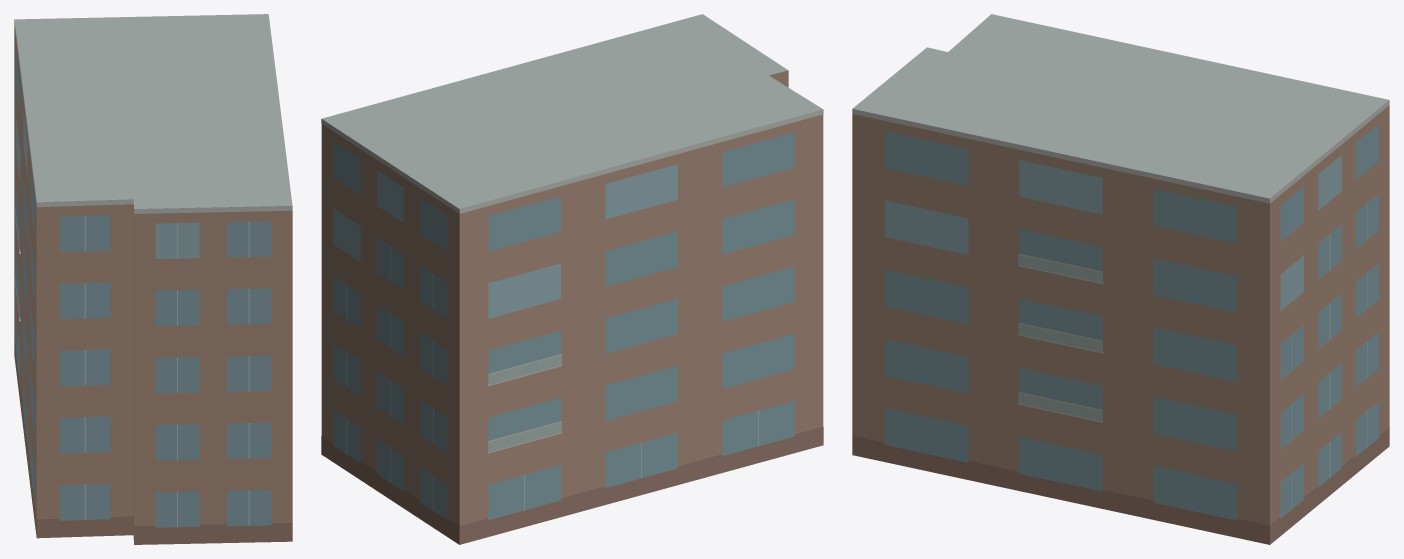
Rendered from survey-upis-32850189.glb.
The picture shows the model from 3 angles, left to right: view 1: azimuth 30°, elevation 25°; view 2: azimuth 150°, elevation 25°; view 3: azimuth 270°, elevation 25°; orthographic projection. The views are drawn at different scales.
Visible parts, largest first — view 1: survey-upis-32850189.tmp; view 2: survey-upis-32850189.tmp; view 3: survey-upis-32850189.tmp.
Boxes of the visible parts, box(x1,y1,x2,y2) form: survey-upis-32850189.tmp: box(14, 14, 292, 544); survey-upis-32850189.tmp: box(321, 14, 823, 544); survey-upis-32850189.tmp: box(852, 14, 1389, 544).
Size of the model in its own units: 19.22 by 16.8 by 23.64.
